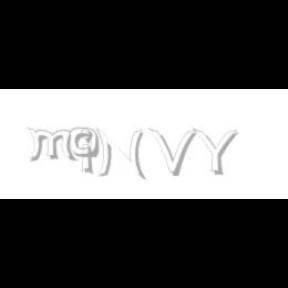N: (96, 128, 144, 180)
V: (149, 128, 197, 176)
Y: (192, 128, 238, 176)
i: (81, 128, 97, 176)
m: (26, 128, 78, 162)
o: (70, 128, 98, 158)
